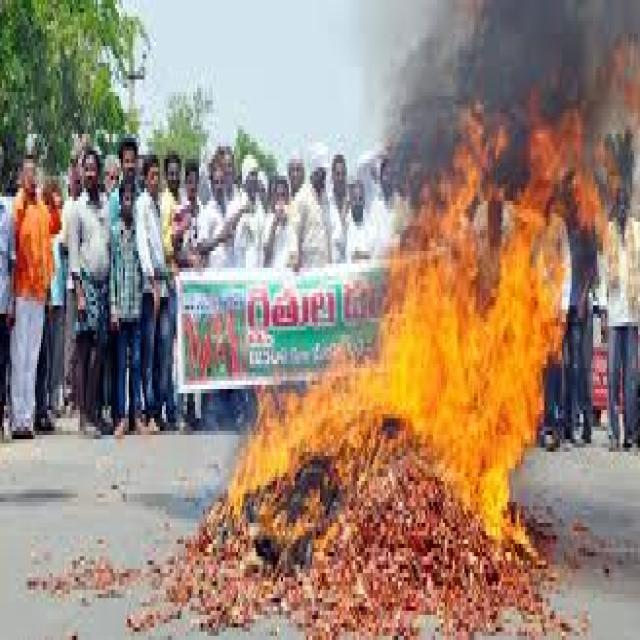Fire: (416, 213, 563, 534), (512, 103, 610, 242), (267, 329, 392, 428), (234, 422, 308, 510), (448, 108, 508, 212), (390, 246, 418, 428)
Smoke: (389, 3, 640, 105), (389, 110, 451, 214)
